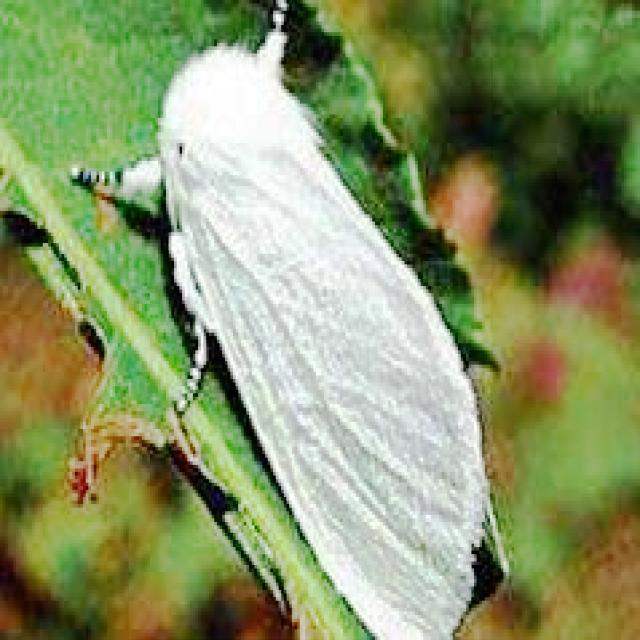stem-borer: (129, 35, 491, 639)
